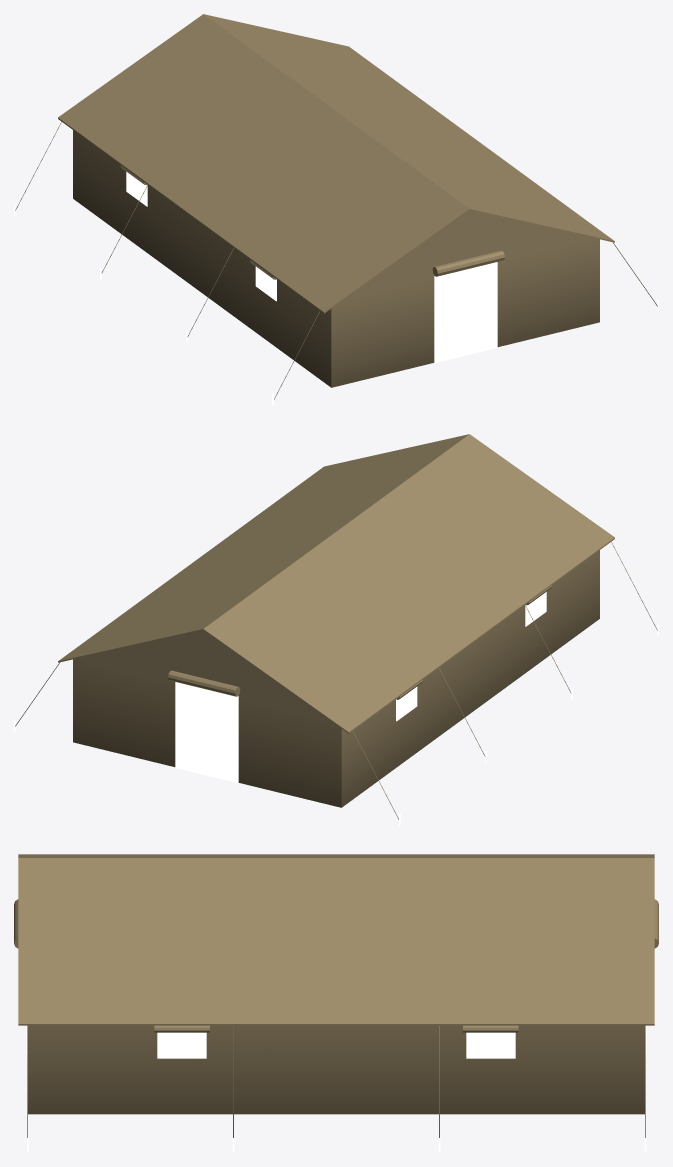
The model's file is tent_frame_10x6.glb.
3 views of the same model, one above another, from view 1: azimuth 30°, elevation 25°; view 2: azimuth 150°, elevation 25°; view 3: azimuth 270°, elevation 25° (orthographic). The views are drawn at different scales.
Visible parts, largest first — view 1: tent_frame_10x6_LOD0; view 2: tent_frame_10x6_LOD0; view 3: tent_frame_10x6_LOD0.
Part boxes in pixels (x1,y1,x2,y2): tent_frame_10x6_LOD0: (14, 14, 658, 405); tent_frame_10x6_LOD0: (14, 434, 658, 825); tent_frame_10x6_LOD0: (14, 854, 658, 1152).
Size of what is drawn, in the model's own units: 8.63 by 3.25 by 10.44.
